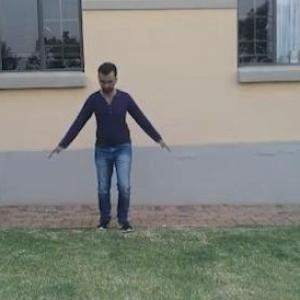land: (42, 59, 175, 236)
